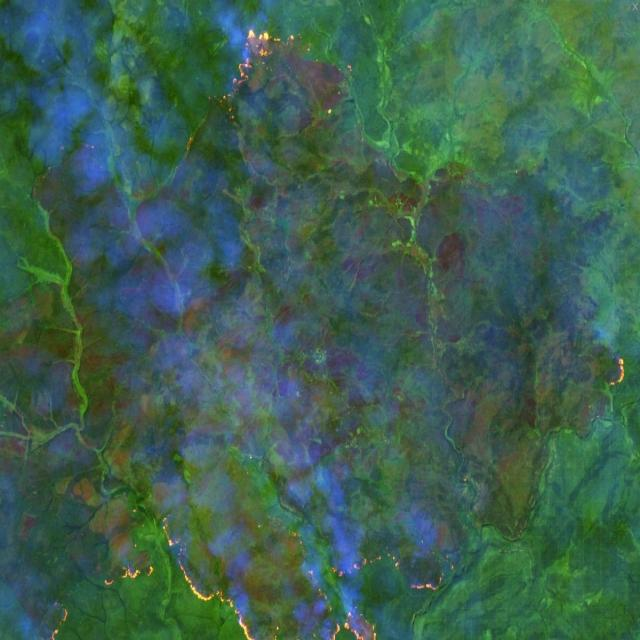fire: (48, 513, 444, 640), (210, 19, 302, 101), (602, 349, 629, 392)
